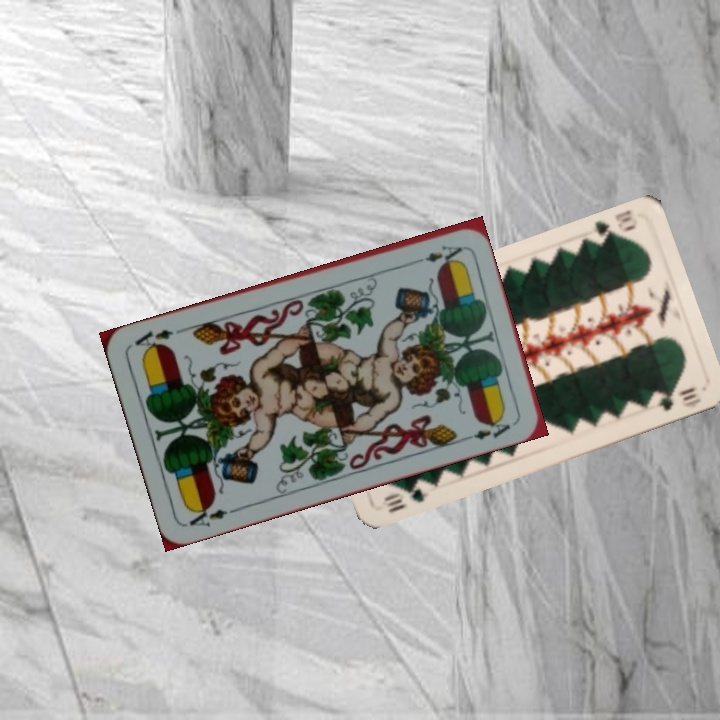EA: (185, 500, 241, 530), (406, 241, 465, 268)
G10: (587, 205, 641, 247), (380, 477, 432, 516)
